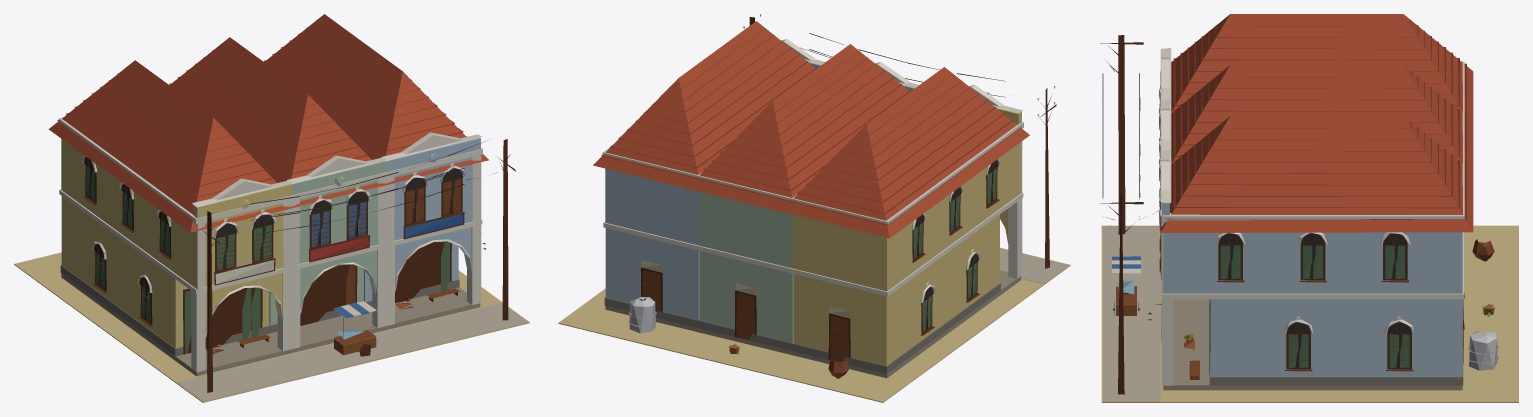
Rendered from shop_3.glb.
3 views of the same model, side by side, from view 1: azimuth 30°, elevation 25°; view 2: azimuth 150°, elevation 25°; view 3: azimuth 270°, elevation 25° (orthographic). The views are drawn at different scales.
Visible parts, largest first — view 1: body, windows; view 2: body, windows; view 3: body, windows.
Boxes of the visible parts, x1=… form: body: x1=14, y1=14, x2=529, y2=402; windows: x1=84, y1=157, x2=484, y2=322; body: x1=558, y1=14, x2=1070, y2=402; windows: x1=913, y1=160, x2=998, y2=331; body: x1=1100, y1=14, x2=1518, y2=402; windows: x1=1210, y1=233, x2=1411, y2=367.
Bounding box in the file's own units: 15.9 × 10.67 × 16.
